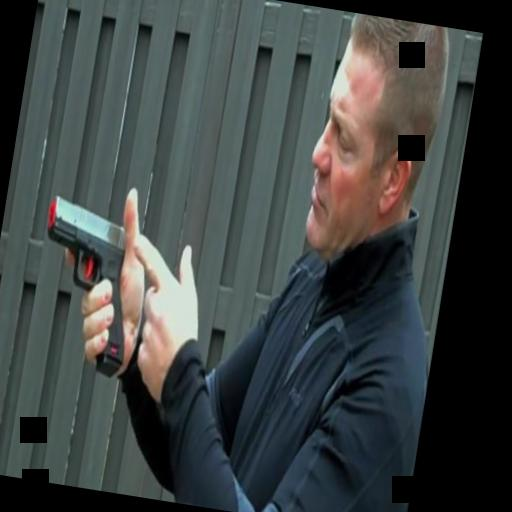Handgun: (21, 188, 152, 378)
